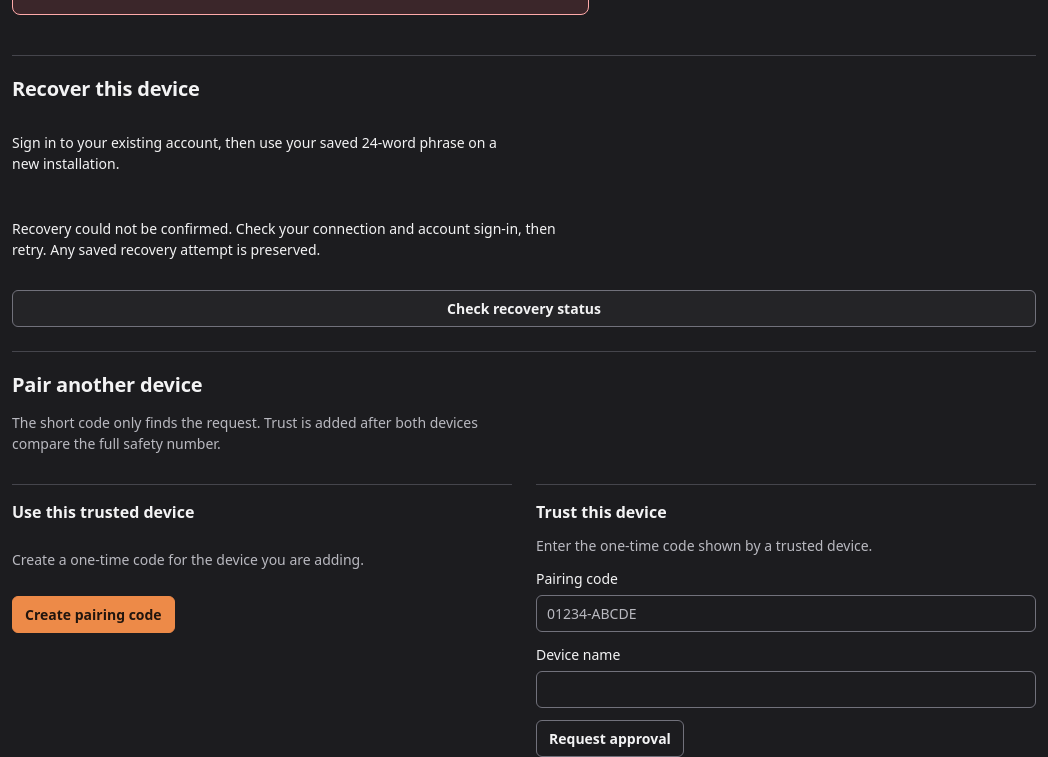
Test: keeps the ordinary label while the code is still valid
(page scrolled)
Step 1. Click the button "Create pairing code" → [93, 615], box [12,596,175,633]
(page scrolled)
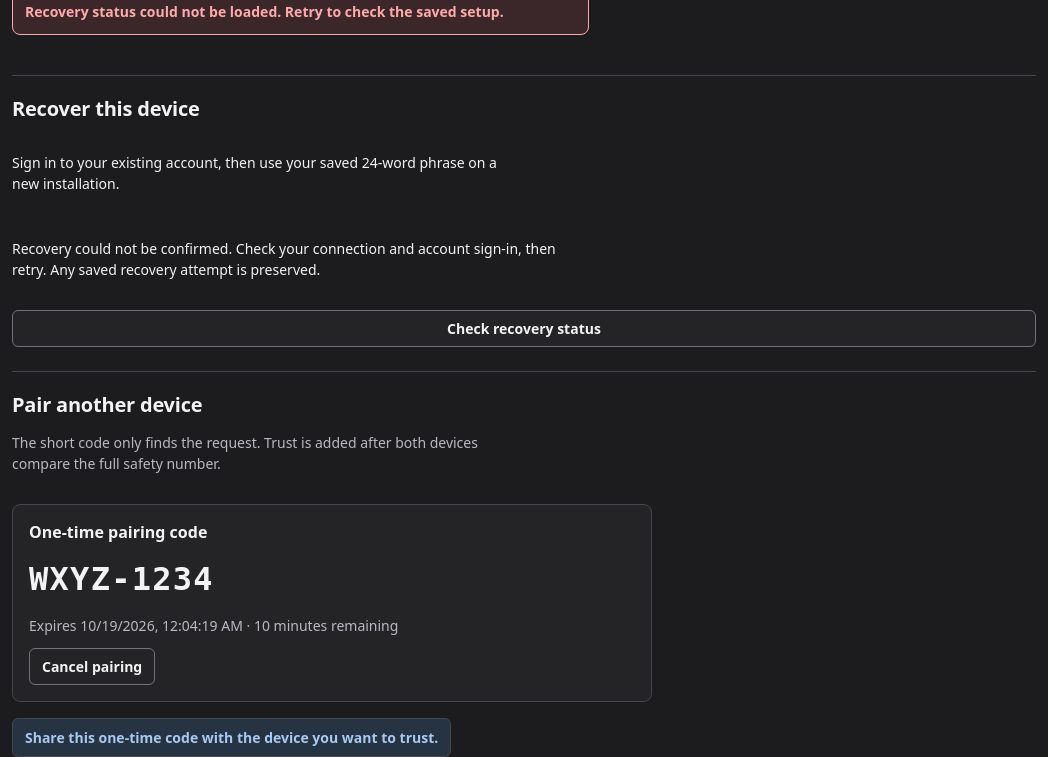
Check: the text "Expires 10/19/2026, 12:04:19 AM · 10 minutes remaining" is shown, box [29,616,398,635]
Check: the button "Cancel pairing" is shown, box [29,648,155,685]
